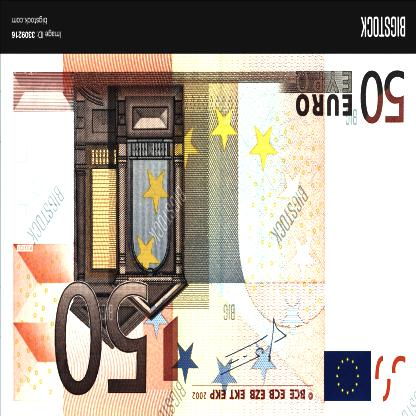euro_banknote: (1, 56, 416, 416)
